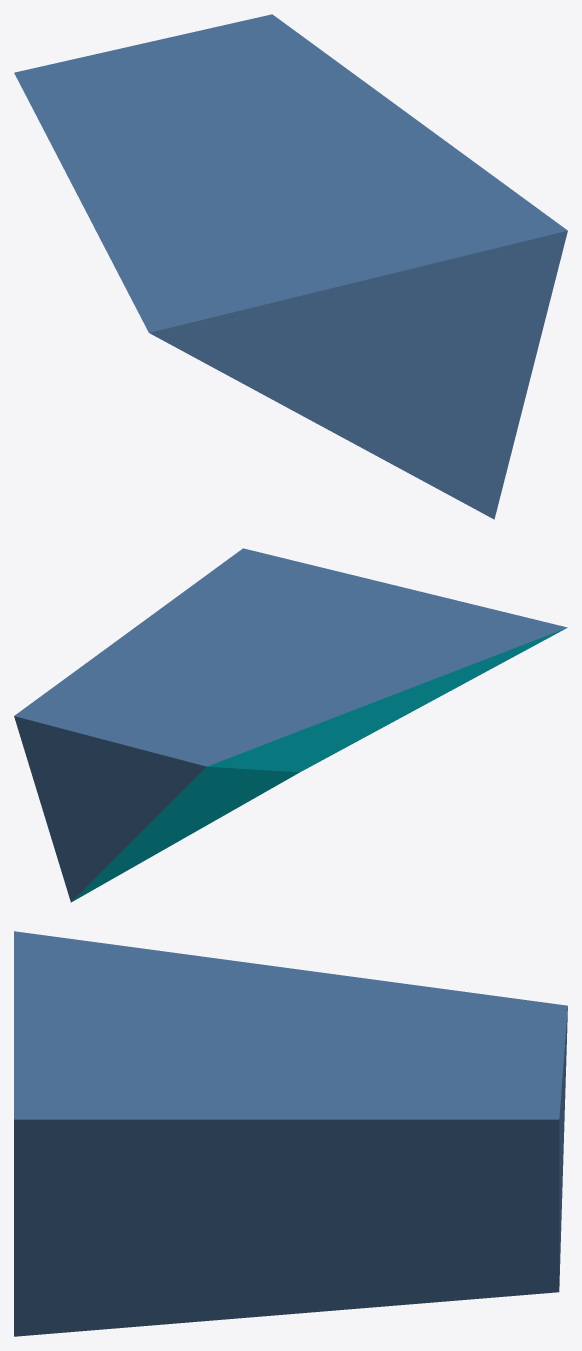
The model's file is wrong2.fbx.
3 views of the same model, one above another, from view 1: azimuth 30°, elevation 25°; view 2: azimuth 150°, elevation 25°; view 3: azimuth 270°, elevation 25° (orthographic). The views are drawn at different scales.
Parts seen in each view (by area): view 1: wrong2; view 2: wrong2; view 3: wrong2.
Boxes of the visible parts, x1,y1,x2,y2 form: wrong2: (14,14,567,519); wrong2: (14,548,567,902); wrong2: (14,931,567,1336).
Bounding box in the file's own units: 47.74 × 29.51 × 59.26.
